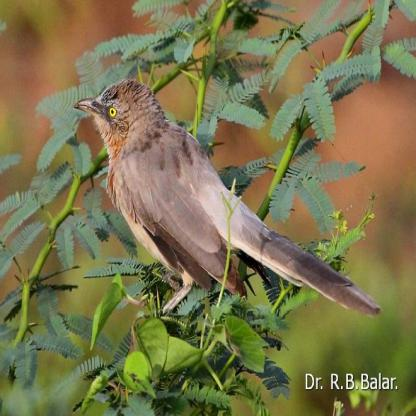Burung: (73, 81, 380, 315)
